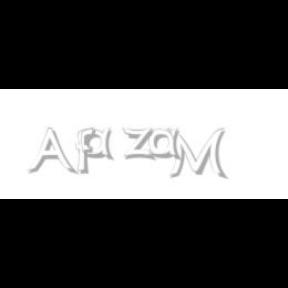A: (27, 128, 75, 176)
M: (166, 128, 226, 180)
a: (148, 128, 186, 160), (82, 128, 118, 160)
f: (76, 128, 100, 174)
z: (122, 128, 158, 160)
